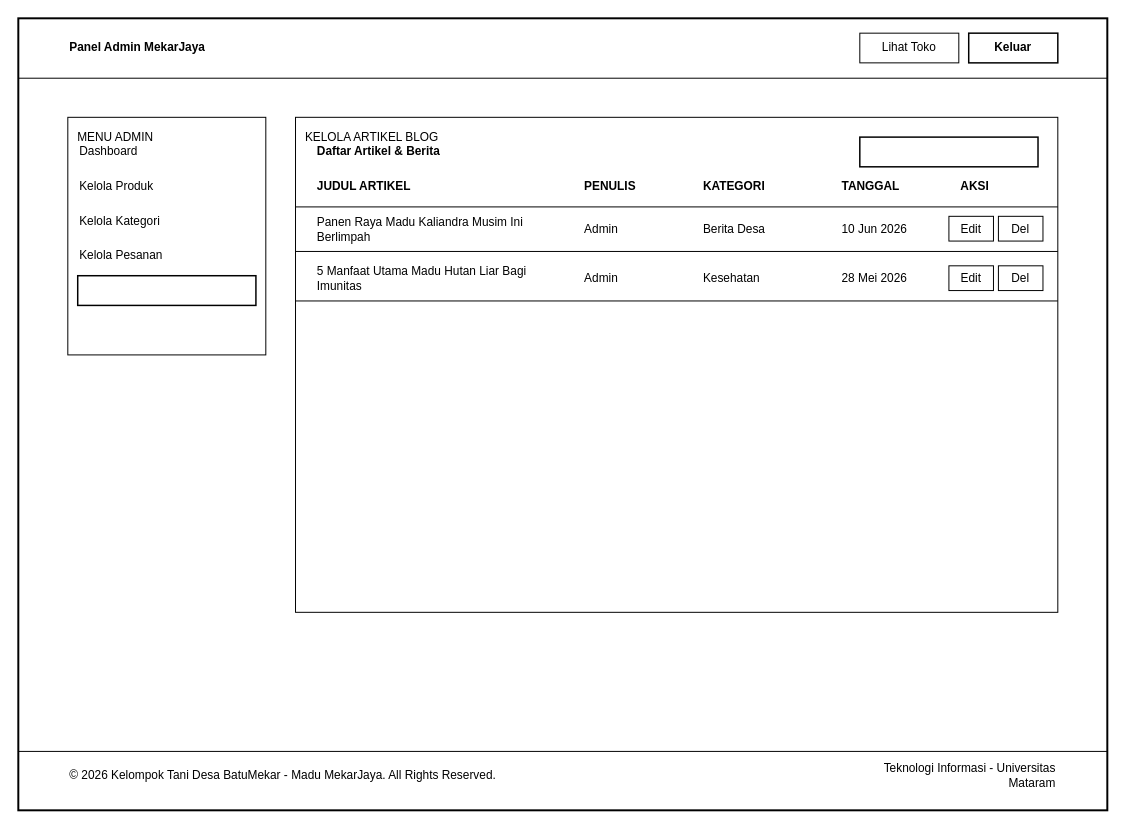
This 1125x828 diagram has some shape labels left out. Each missing label, with the centre of its shape:
"+ Tambah Artikel Baru" belongs at point 948,151.
"Kelola Artikel" belongs at point 166,290.
